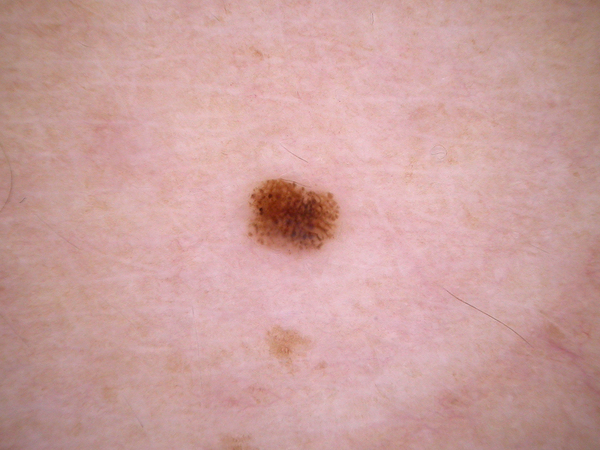Detected Lesion: (236, 167, 346, 259)
